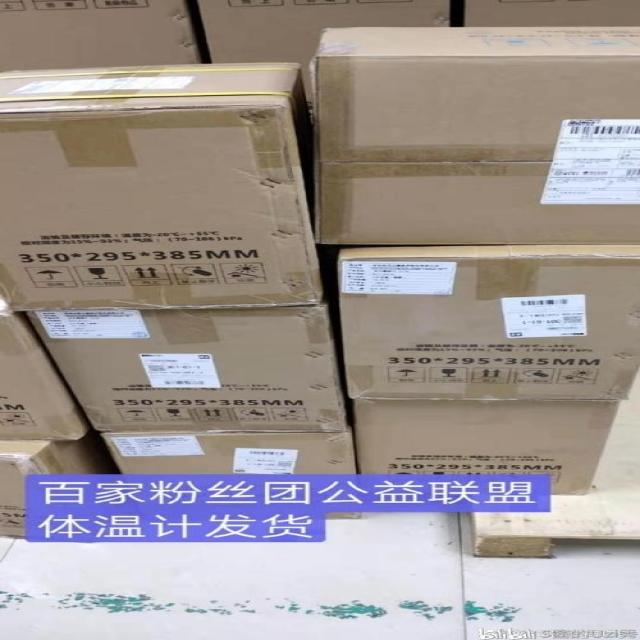Carton: (343, 257, 639, 493), (0, 109, 319, 313), (311, 56, 639, 245), (24, 308, 344, 433), (0, 62, 298, 110), (311, 28, 639, 56)
